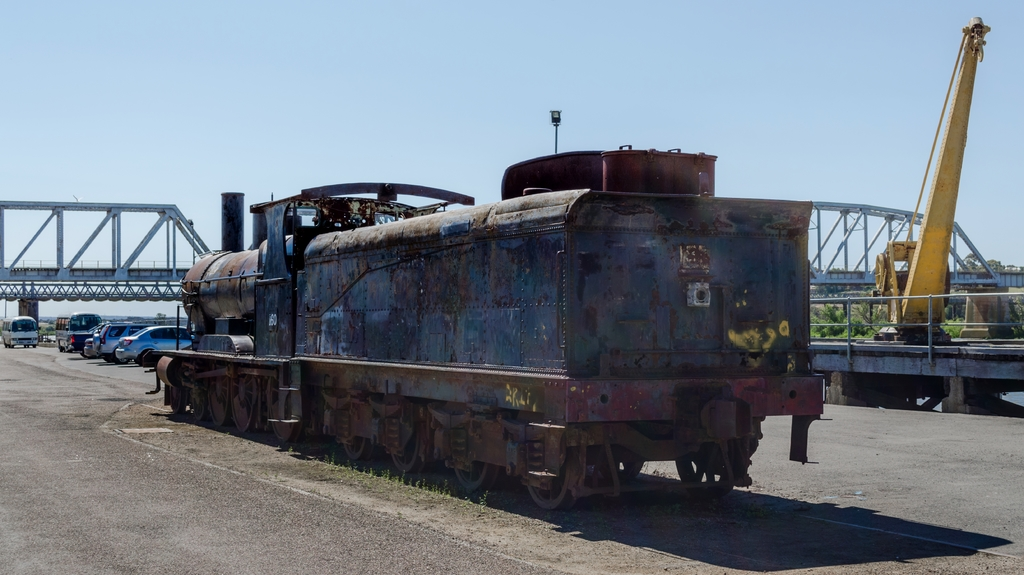train: (146, 108, 824, 514)
